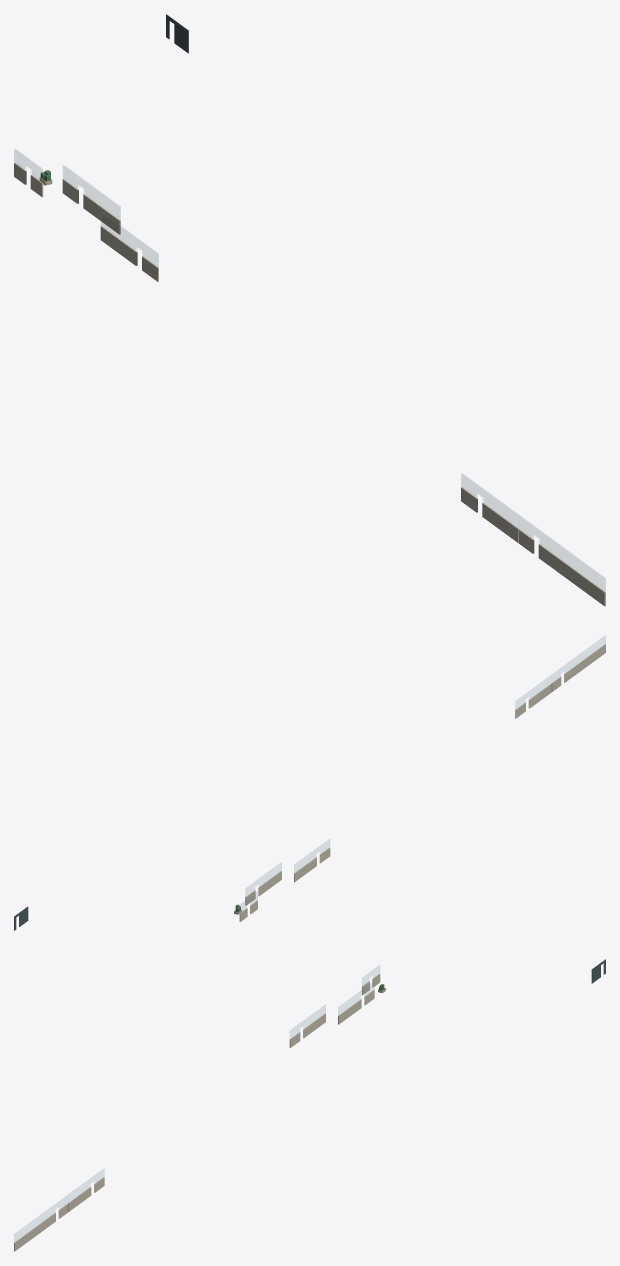
Rendered from D04_PORT_CENTRAL_WEST_STAFF_PATCH_r001.glb.
The picture shows the model from 3 angles, top to bottom: view 1: azimuth 30°, elevation 25°; view 2: azimuth 150°, elevation 25°; view 3: azimuth 330°, elevation 25°; orthographic projection. The views are drawn at different scales.
Parts seen in each view (by area): view 1: PCK_D04HC5_west_PrivacyScreen, PCK_D04HC5_west_GlassUpper, PCK_D04HC_west_PrivacyScreen, PCK_D04HC2_west_PrivacyScreen, PCK_D04HC4_west_PrivacyScreen, PCK_D04HC_west_GlassUpper, PCK_D04HC4_west_GlassUpper, PCK_D04HC2_west_GlassUpper; view 2: PCK_D04HC5_west_PrivacyScreen, PCK_D04HC5_west_GlassUpper; view 3: PCK_D04HC5_west_PrivacyScreen, PCK_D04HC5_west_GlassUpper.
Boxes of the visible parts, left/top/right/bottom form: PCK_D04HC5_west_PrivacyScreen: left=518, top=529, right=605, bottom=606; PCK_D04HC5_west_GlassUpper: left=519, top=515, right=605, bottom=591; PCK_D04HC_west_PrivacyScreen: left=100, top=226, right=158, bottom=281; PCK_D04HC2_west_PrivacyScreen: left=62, top=179, right=120, bottom=234; PCK_D04HC4_west_PrivacyScreen: left=461, top=487, right=519, bottom=542; PCK_D04HC_west_GlassUpper: left=101, top=212, right=158, bottom=267; PCK_D04HC4_west_GlassUpper: left=461, top=473, right=518, bottom=527; PCK_D04HC2_west_GlassUpper: left=63, top=165, right=120, bottom=220; PCK_D04HC5_west_PrivacyScreen: left=551, top=644, right=605, bottom=691; PCK_D04HC5_west_GlassUpper: left=552, top=635, right=605, bottom=682; PCK_D04HC5_west_PrivacyScreen: left=14, top=1203, right=68, bottom=1251; PCK_D04HC5_west_GlassUpper: left=14, top=1195, right=67, bottom=1242.
Size of the model in its own units: 38.06 by 3.96 by 177.
Materials: 6 (4 with a texture image).
